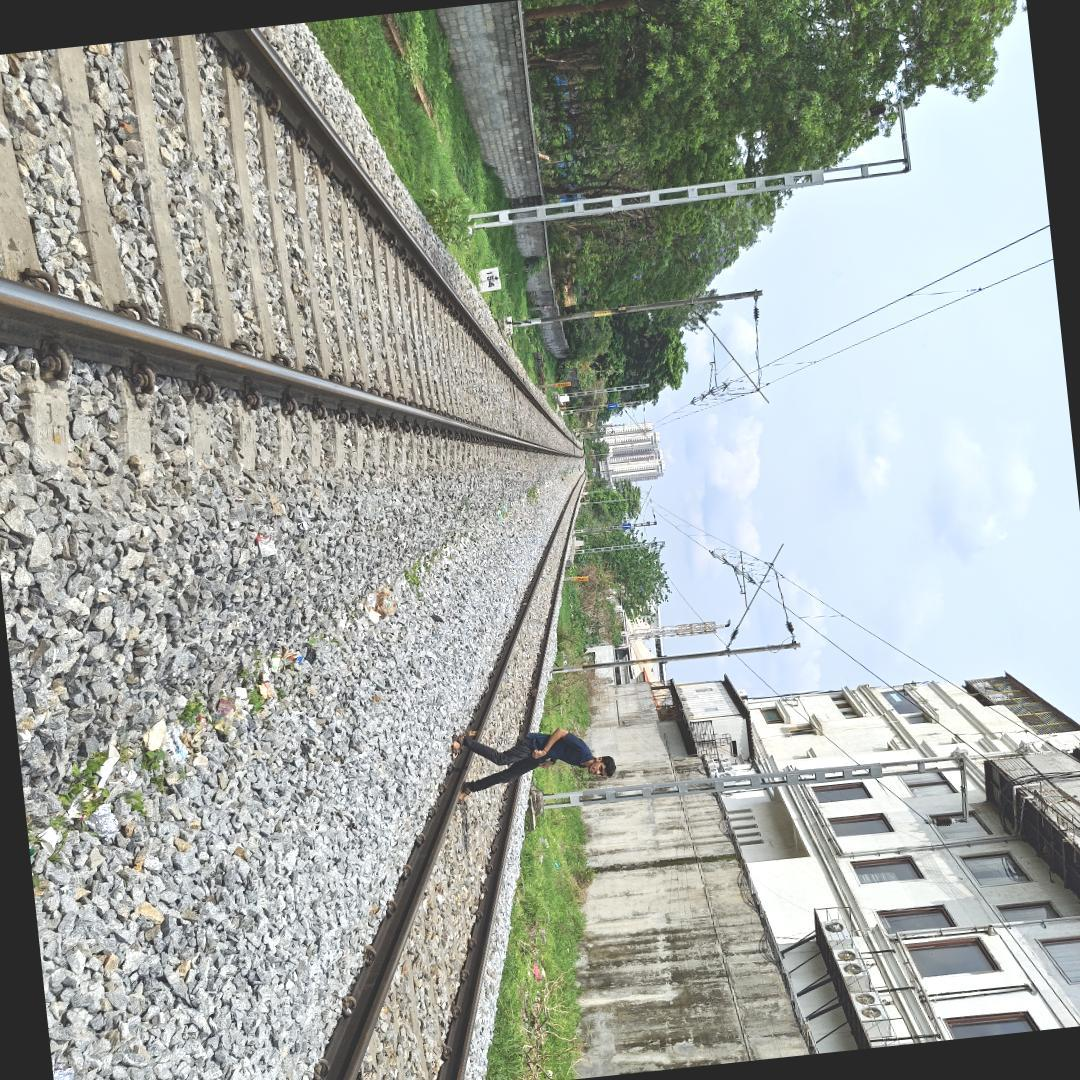standing: (443, 712, 625, 812)
track: (0, 27, 584, 460), (299, 471, 584, 1080)
